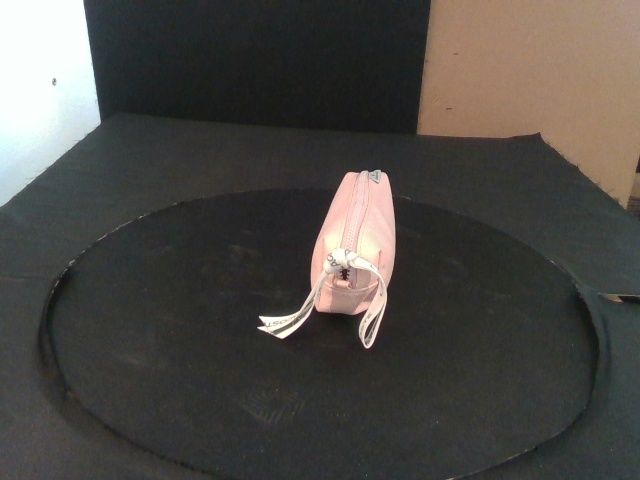pencil_case: (311, 171, 396, 313)
